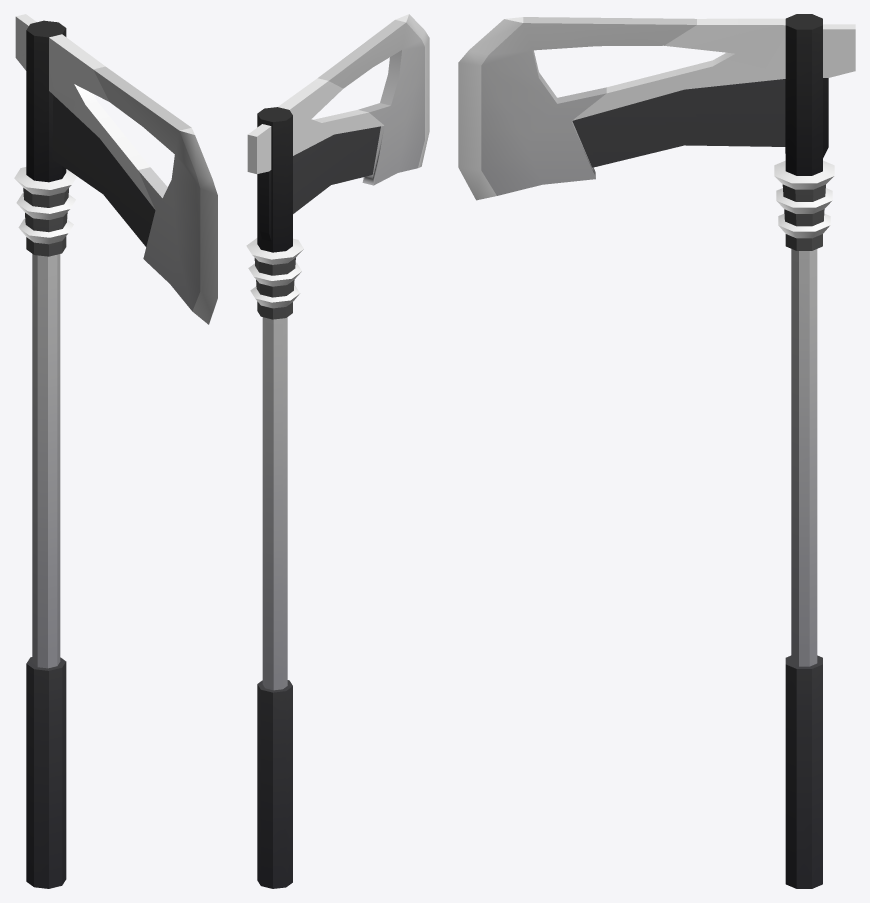
Rendered from Weapon_Hachet.fbx.
The picture shows the model from 3 angles, left to right: view 1: azimuth 30°, elevation 25°; view 2: azimuth 150°, elevation 25°; view 3: azimuth 270°, elevation 25°; orthographic projection. The views are drawn at different scales.
Parts seen in each view (by area): view 1: W_AX_1; view 2: W_AX_1; view 3: W_AX_1.
Boxes of the visible parts, x1,y1,x2,y2 form: W_AX_1: (14, 14, 217, 888); W_AX_1: (246, 14, 429, 888); W_AX_1: (458, 14, 855, 888).
Size of the model in its own units: 5.97 by 94.03 by 39.31.
